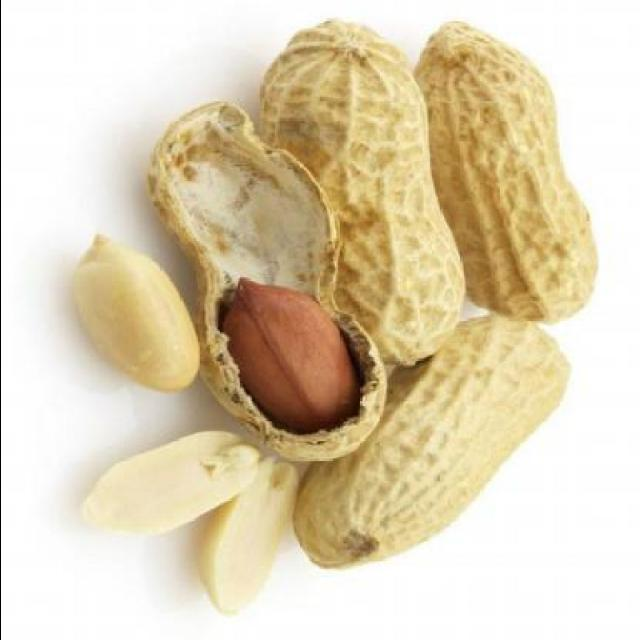Frutta secca: (286, 310, 580, 581), (246, 18, 468, 370), (430, 19, 608, 327), (68, 223, 204, 399), (76, 432, 260, 537)
